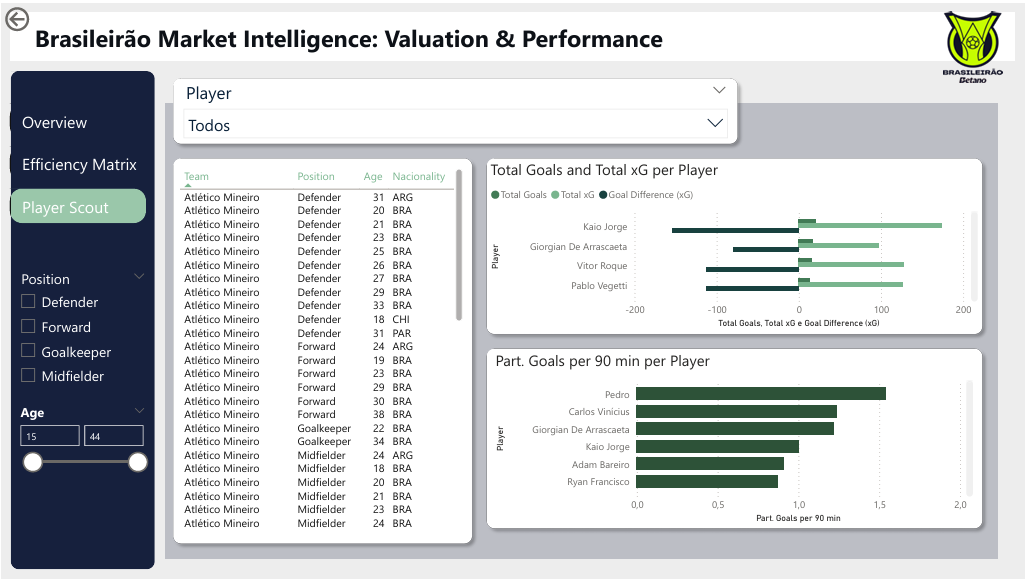

What the dashboard file says about the page in this screenshot:
{"tool":"powerbi","page":{"name":"Player Scout","canvas":[1280,720],"ordinal":2},"visuals":[{"type":"shape","box":[11.7,11.7,1256.7,61.7],"z":0},{"type":"actionButton","box":[0,0,100,40],"z":4000},{"type":"image","box":[1162,11.1,105.6,89],"z":5000},{"type":"shape","box":[11.7,85,180,623.3],"z":6000},{"type":"pageNavigator","box":[11.1,126.5,169.6,150.1],"z":7000},{"type":"slicer","fields":{"Values":["dataset_bi.position"]},"box":[11.7,326.7,180,168.3],"z":9000},{"type":"slicer","fields":{"Values":["dataset_bi.age"]},"box":[11.1,494.8,180.7,187.6],"z":10000},{"type":"shape","box":[205.7,126.5,1041.1,569.9],"z":11000},{"type":"shape","box":[205.7,84.8,724.2,100.1],"z":12000},{"type":"shape","box":[205.7,184.9,392,500.4],"z":13000},{"type":"slicer","fields":{"Values":["dataset_bi.player"]},"box":[218.2,91.7,700.5,84.8],"z":14000},{"type":"tableEx","fields":{"Values":["dataset_bi.team","dataset_bi.position","dataset_bi.age","dataset_bi.nationality"]},"box":[218.2,201.5,364.2,464.2],"z":15000},{"type":"shape","box":[597.7,184.9,638,237.7],"z":15001},{"type":"shape","box":[597.7,422.5,638,243.2],"z":15002},{"type":"clusteredBarChart","title":"Total Goals and Total xG per Player","fields":{"Category":["dataset_bi.player"],"Y":["_medidas.Total Goals","_medidas.Total xG","_medidas.Goal Difference (xG)"]},"box":[607.4,194.6,618.5,216.8],"z":15003},{"type":"barChart","title":"Part. Goals per 90 min per Player","fields":{"Category":["dataset_bi.player"],"Y":["_medidas.Part. Goals per 90 min"]},"box":[613,433.7,607.4,221],"z":15004}]}

Visuals, with their boxes on the page's 1280x720 design canvas (x1, y1, x2, y2). These are canvas units, not pixel positions in the 1029x582 screenshot, which may show the page scaled, cropped or inside an application window:
shape: (12,12,1268,73)
actionButton: (0,0,100,40)
image: (1162,11,1268,100)
shape: (12,85,192,708)
pageNavigator: (11,126,181,277)
slicer - dataset_bi.position: (12,327,192,495)
slicer - dataset_bi.age: (11,495,192,682)
shape: (206,126,1247,696)
shape: (206,85,930,185)
shape: (206,185,598,685)
slicer - dataset_bi.player: (218,92,919,176)
tableEx - dataset_bi.team x dataset_bi.position: (218,202,582,666)
shape: (598,185,1236,423)
shape: (598,422,1236,666)
"Total Goals and Total xG per Player" clusteredBarChart: (607,195,1226,411)
"Part. Goals per 90 min per Player" barChart: (613,434,1220,655)
